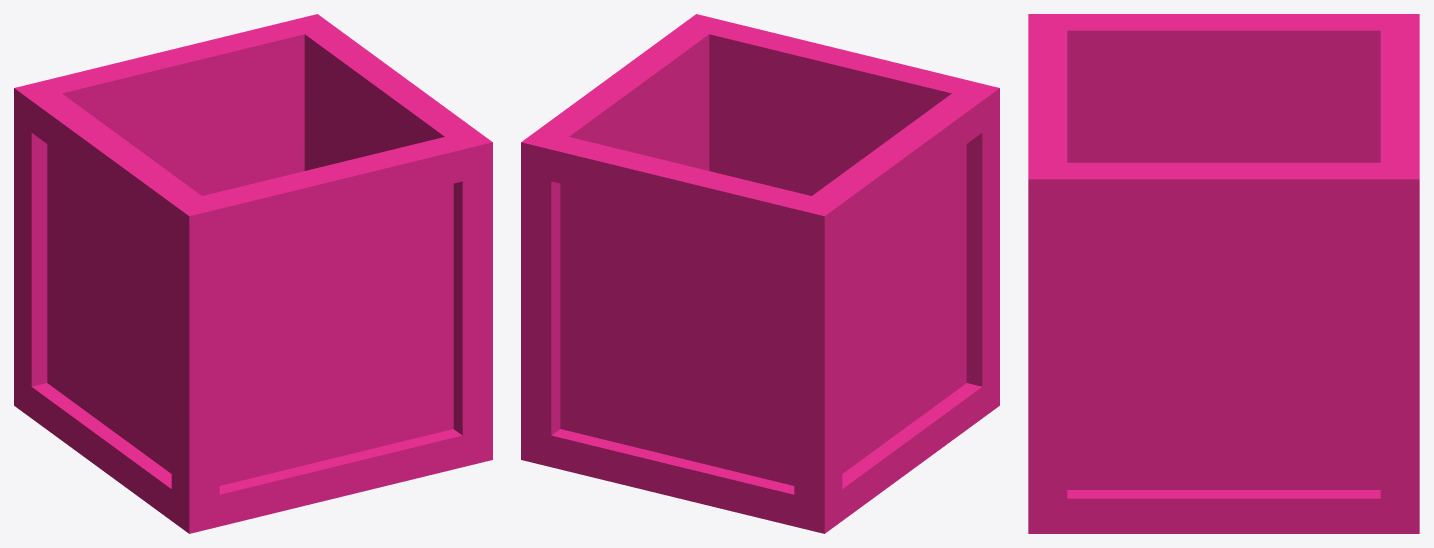
Rendered from Kiste_Leer.fbx.
3 views of the same model, side by side, from view 1: azimuth 30°, elevation 25°; view 2: azimuth 150°, elevation 25°; view 3: azimuth 270°, elevation 25° (orthographic). The views are drawn at different scales.
Parts seen in each view (by area): view 1: Kiste ohne Schokolade; view 2: Kiste ohne Schokolade; view 3: Kiste ohne Schokolade.
Part boxes in pixels (left/top/right/bottom): Kiste ohne Schokolade: left=14, top=14, right=492, bottom=533; Kiste ohne Schokolade: left=521, top=14, right=999, bottom=533; Kiste ohne Schokolade: left=1028, top=14, right=1419, bottom=533.
Size of the model in its own units: 197 by 197 by 197.
